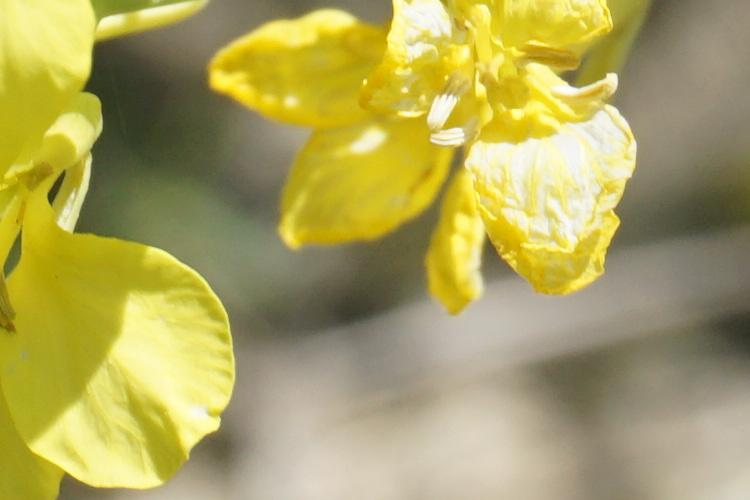yellow: (1, 40, 243, 471), (241, 12, 638, 269)
